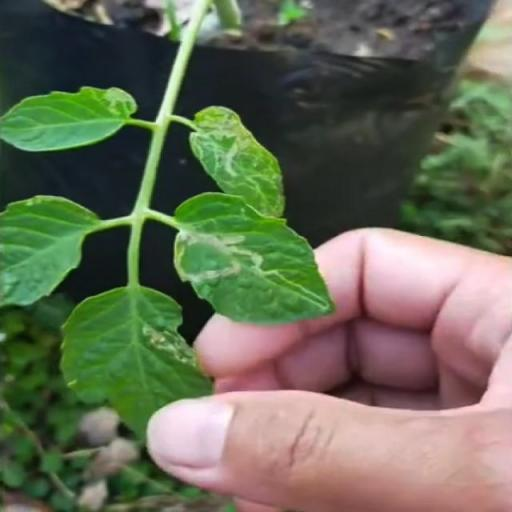Leaf Miner: (57, 284, 219, 436), (172, 188, 336, 325), (186, 101, 288, 217), (0, 84, 137, 150)
